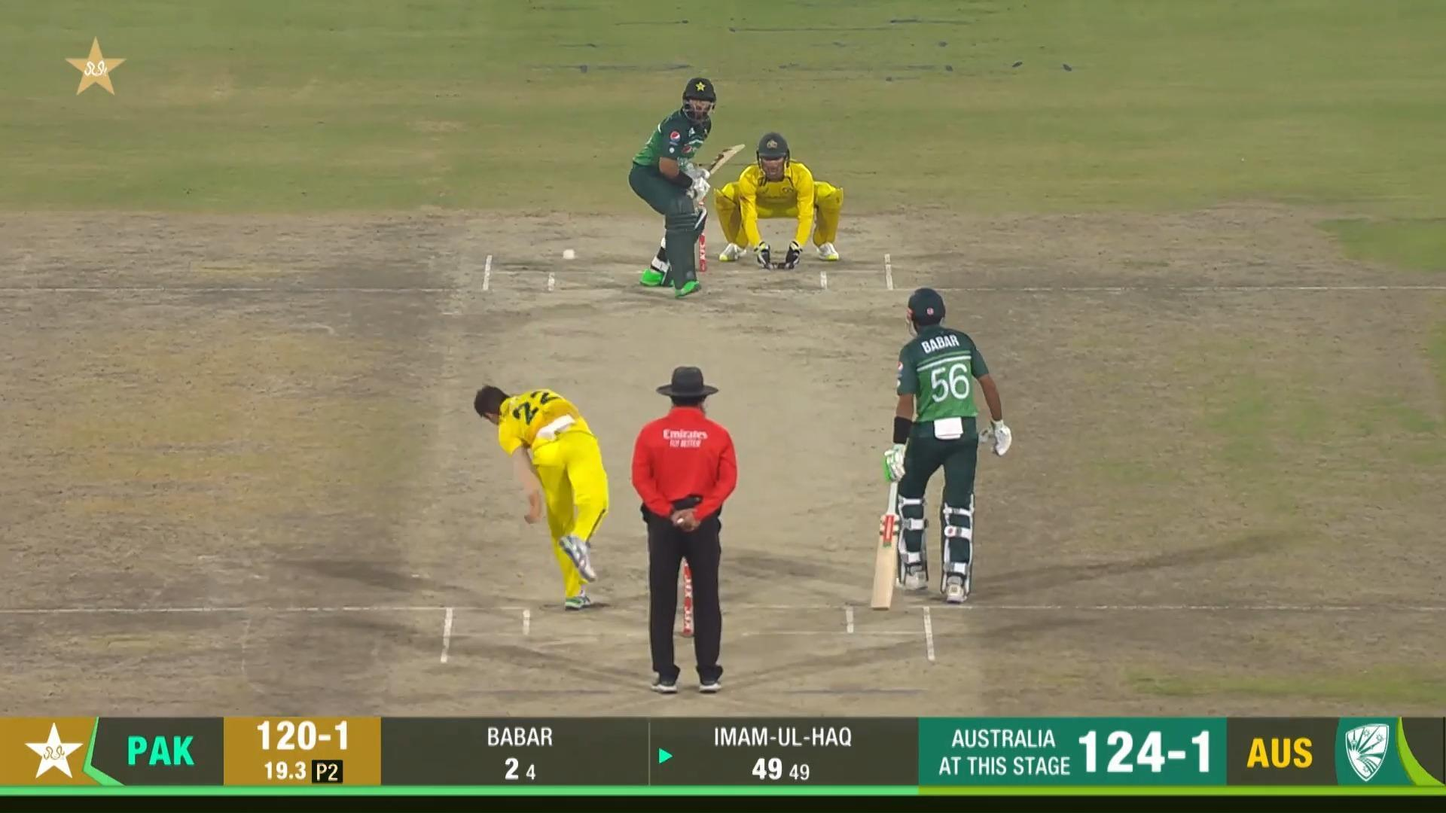BM 1: (627, 76, 748, 299)
BO: (474, 384, 609, 610)
